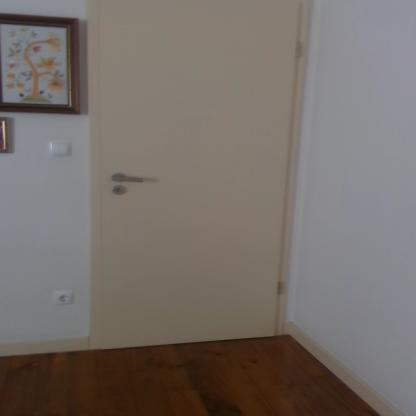closed: (78, 0, 291, 344)
